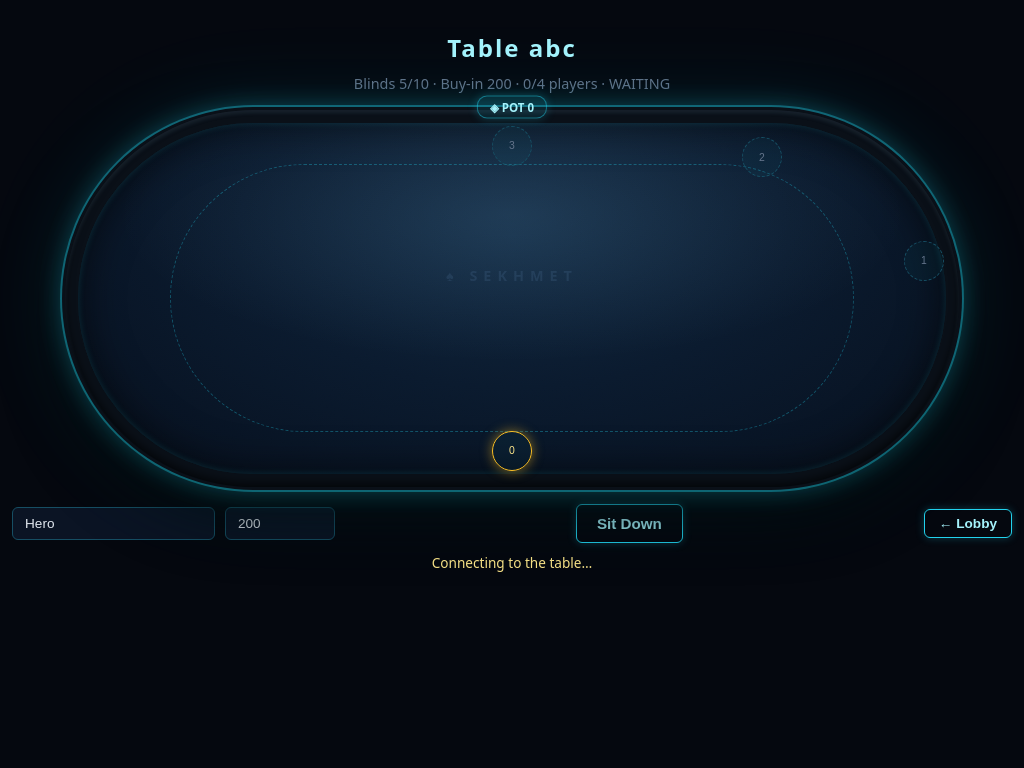
Test: tapping Sit Down without a connection explains itself instead of dying silently
// the socket never opened — the tap must give feedback, not die silently
Click the button "Sit Down".
click(629, 523)  # box [576, 504, 683, 543]
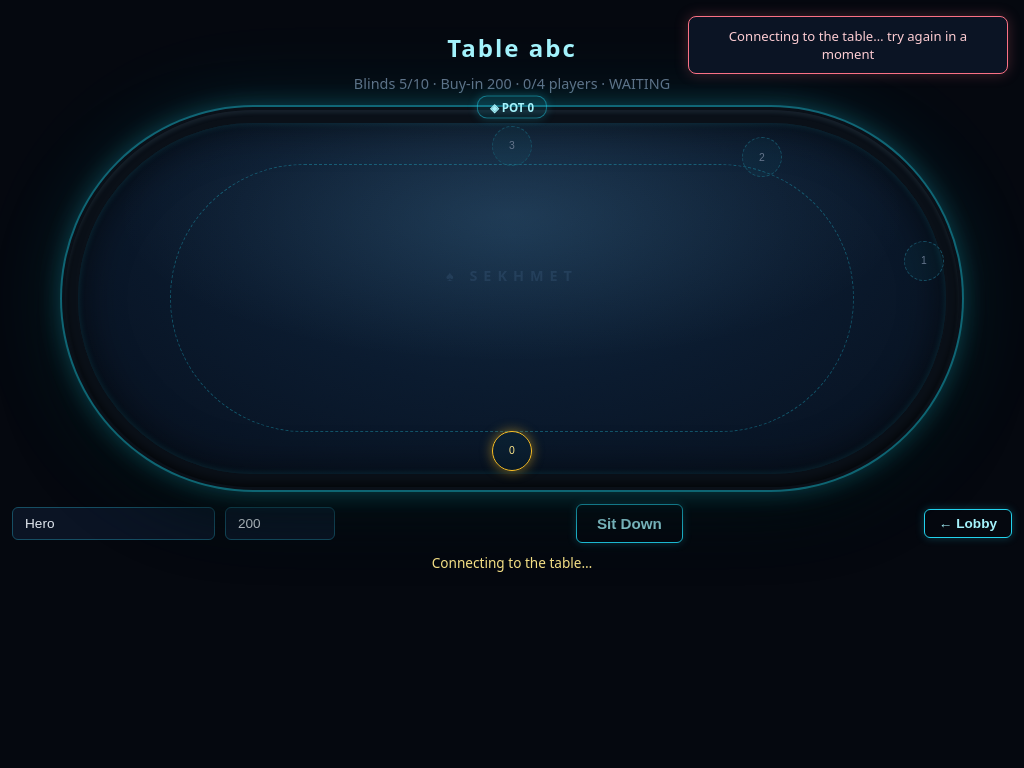
Expected: the text "Connecting to the table…" is shown, [432, 553, 592, 572]
Now the text "Connecting to the table… try again in a moment" is shown, box [688, 16, 1008, 74]
